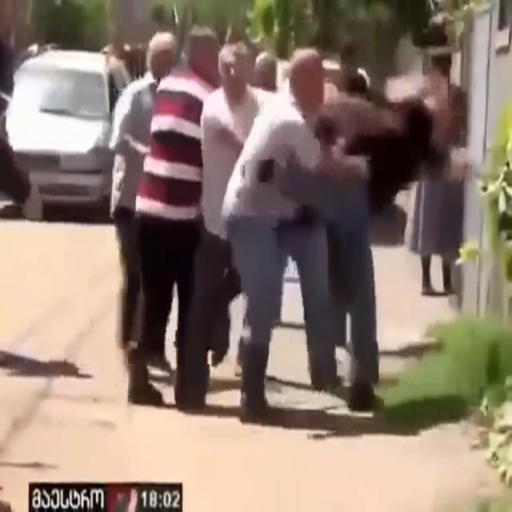violencia: (215, 23, 474, 433)
